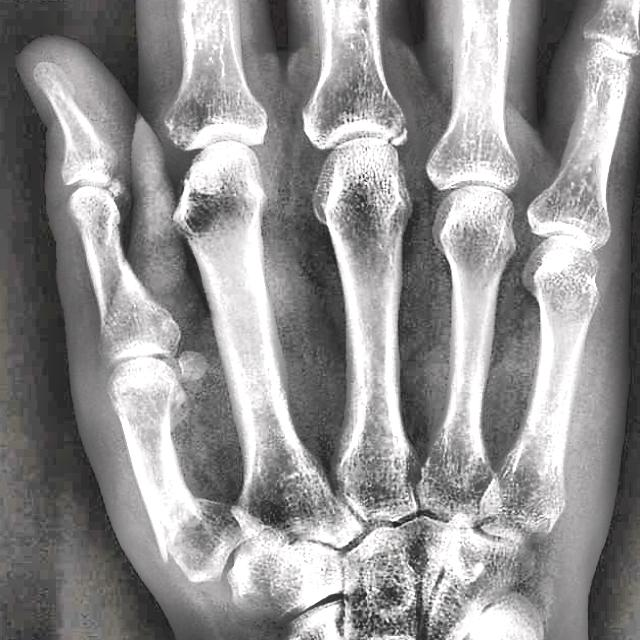fracture: (152, 499, 214, 572), (384, 123, 409, 148)
